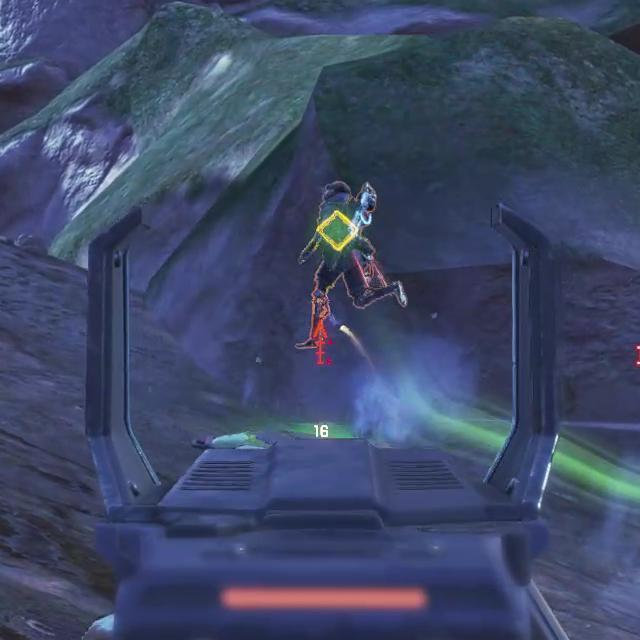avatar: (298, 181, 376, 349)
object: (313, 207, 362, 255)
